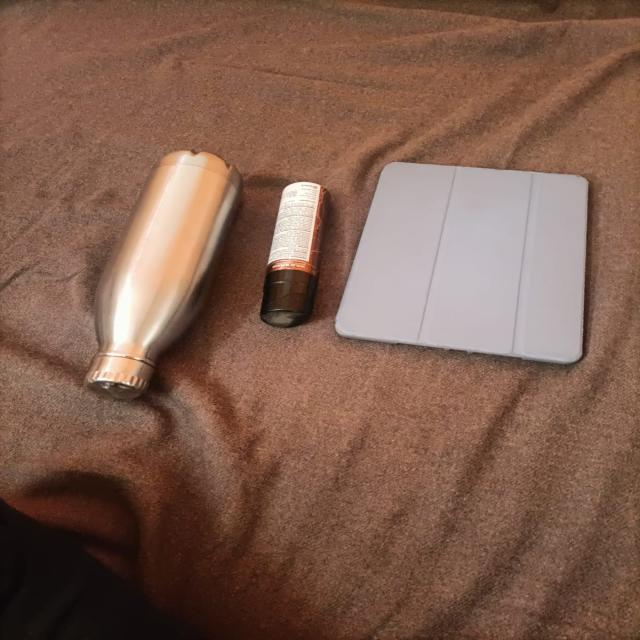bottle: (73, 155, 254, 416)
spray: (251, 170, 337, 341)
tablet: (331, 136, 607, 378)
